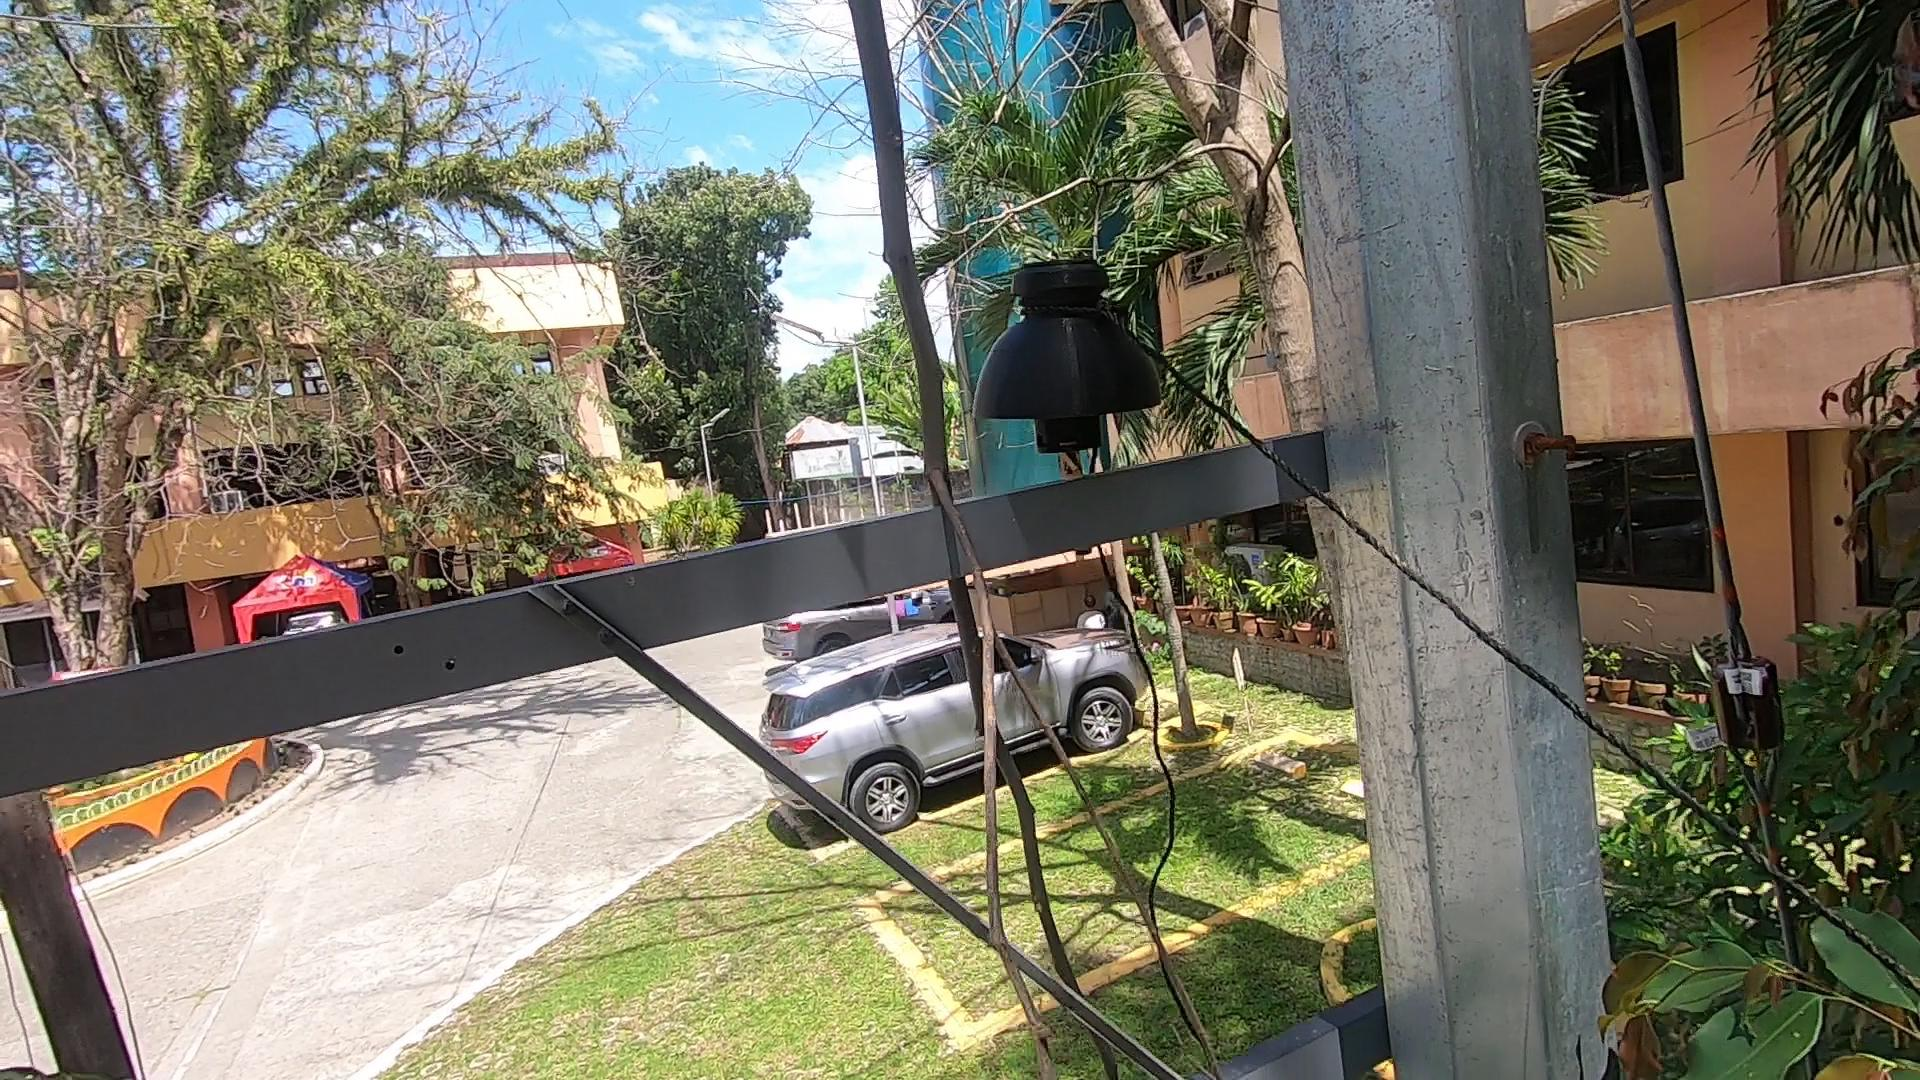tree branch: (770, 1, 1156, 1073)
